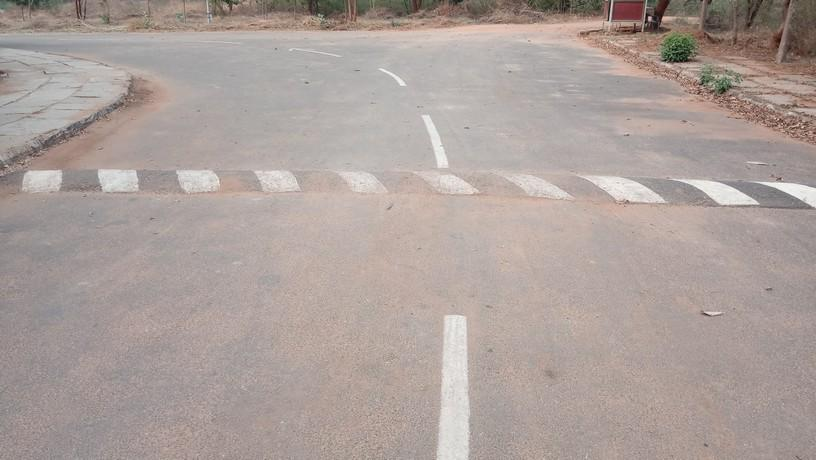Bump: (0, 168, 814, 204)
